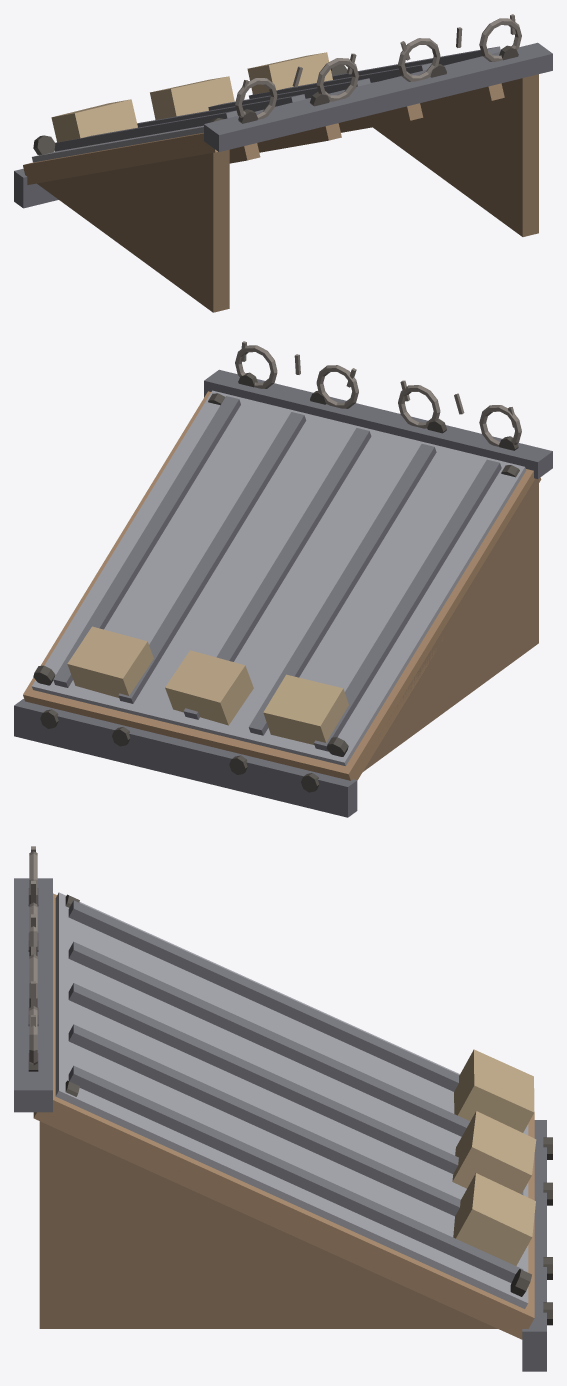
File: reinf-roof-plate.fbx
3 views of the same model, one above another, from view 1: azimuth 30°, elevation 25°; view 2: azimuth 150°, elevation 25°; view 3: azimuth 270°, elevation 25° (orthographic). The views are drawn at different scales.
Visible parts, largest first — view 1: RoofRampReinforced; view 2: RoofRampReinforced; view 3: RoofRampReinforced.
Part boxes in pixels (x1,y1,x2,y2): RoofRampReinforced: (14, 14, 552, 312); RoofRampReinforced: (14, 341, 552, 817); RoofRampReinforced: (14, 846, 552, 1371).
Size of the model in its own units: 4.1 by 3.02 by 4.41.
